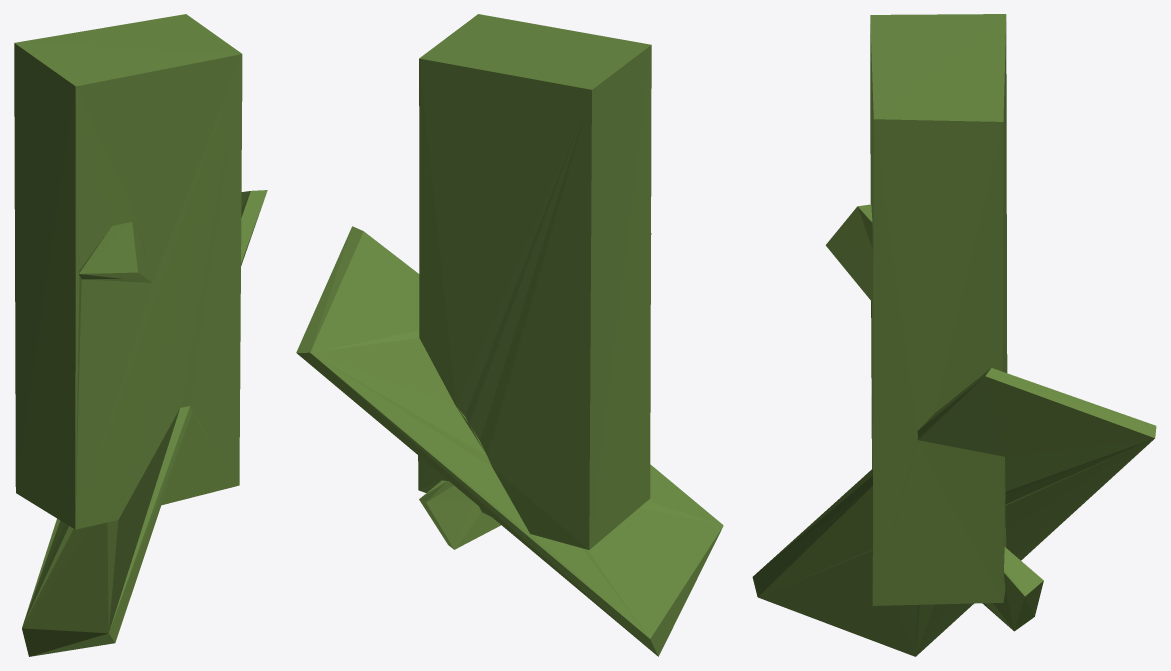
The picture shows the model from 3 angles, left to right: view 1: azimuth 30°, elevation 25°; view 2: azimuth 150°, elevation 25°; view 3: azimuth 270°, elevation 25°; orthographic projection. The views are drawn at different scales.
Parts seen in each view (by area): view 1: 869_Cube.3510; view 2: 869_Cube.3510; view 3: 869_Cube.3510.
Part boxes in pixels (bbox=[...]): 869_Cube.3510: bbox=[14, 14, 267, 656]; 869_Cube.3510: bbox=[296, 14, 723, 656]; 869_Cube.3510: bbox=[752, 14, 1156, 656].
Bounding box in the file's own units: 7.66 × 15.73 × 8.77.
